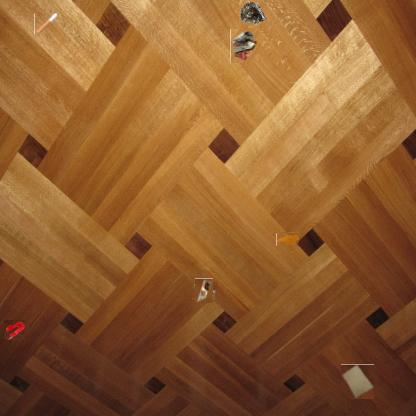dirty: (340, 364, 374, 399), (230, 29, 259, 63), (239, 0, 267, 26), (34, 13, 59, 36), (194, 280, 215, 302)
liquid: (4, 320, 25, 340), (276, 232, 299, 246)
